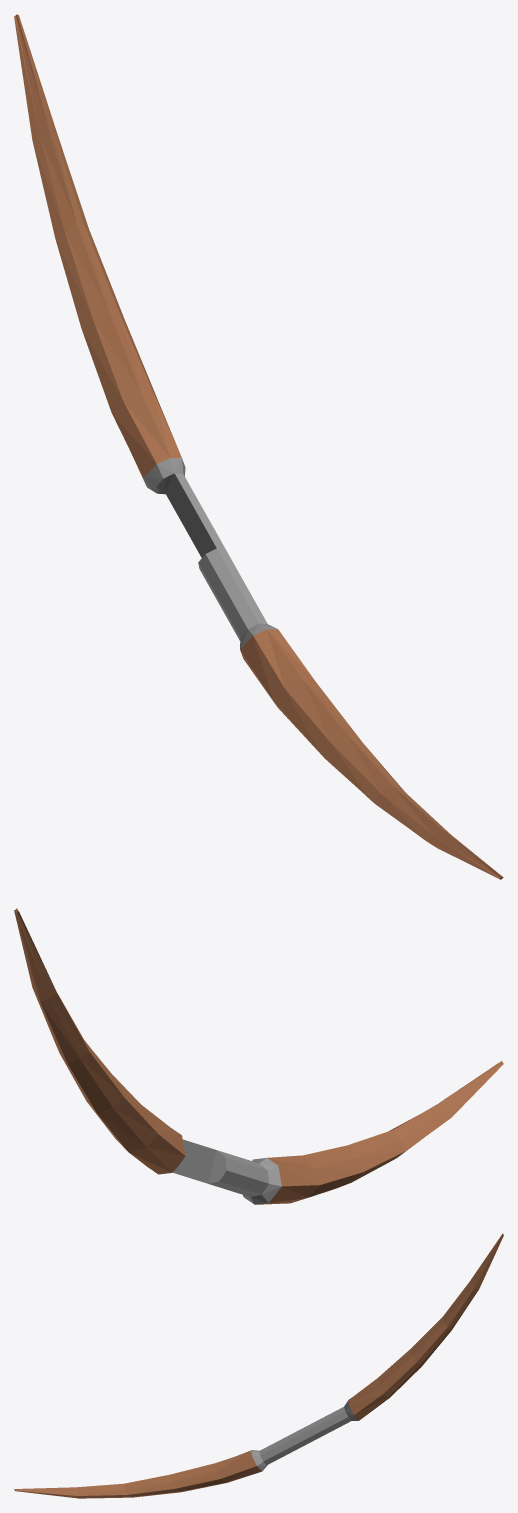
File: arc.glb
3 views of the same model, one above another, from view 1: azimuth 30°, elevation 25°; view 2: azimuth 150°, elevation 25°; view 3: azimuth 270°, elevation 25° (orthographic). The views are drawn at different scales.
Visible parts, largest first — view 1: Arc; view 2: Arc; view 3: Arc.
Boxes of the visible parts, x1=… form: Arc: x1=14, y1=14, x2=503, y2=879; Arc: x1=14, y1=908, x2=503, y2=1204; Arc: x1=14, y1=1233, x2=503, y2=1498.
Bounding box in the file's own units: 0.0698 × 0.7491 × 1.25.
